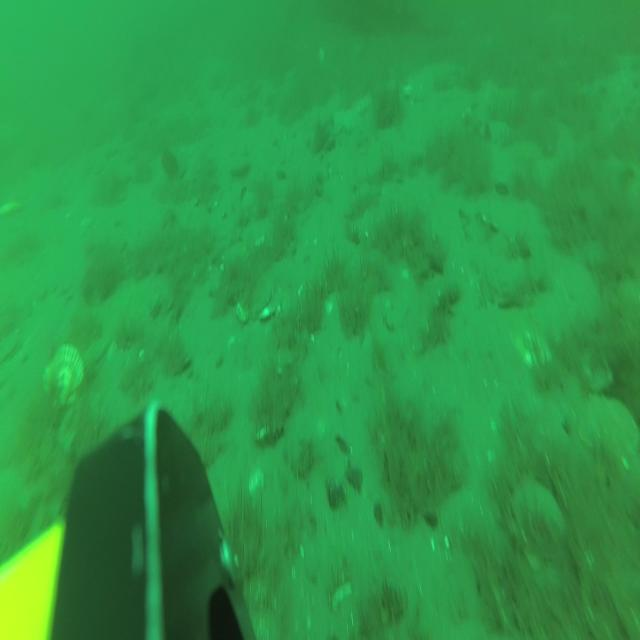scallop: (580, 388, 637, 466), (510, 484, 564, 564), (42, 342, 84, 405), (236, 283, 274, 321), (480, 120, 512, 149), (353, 94, 371, 114), (232, 154, 250, 174), (317, 46, 324, 64)
starfish: (331, 111, 360, 135)
